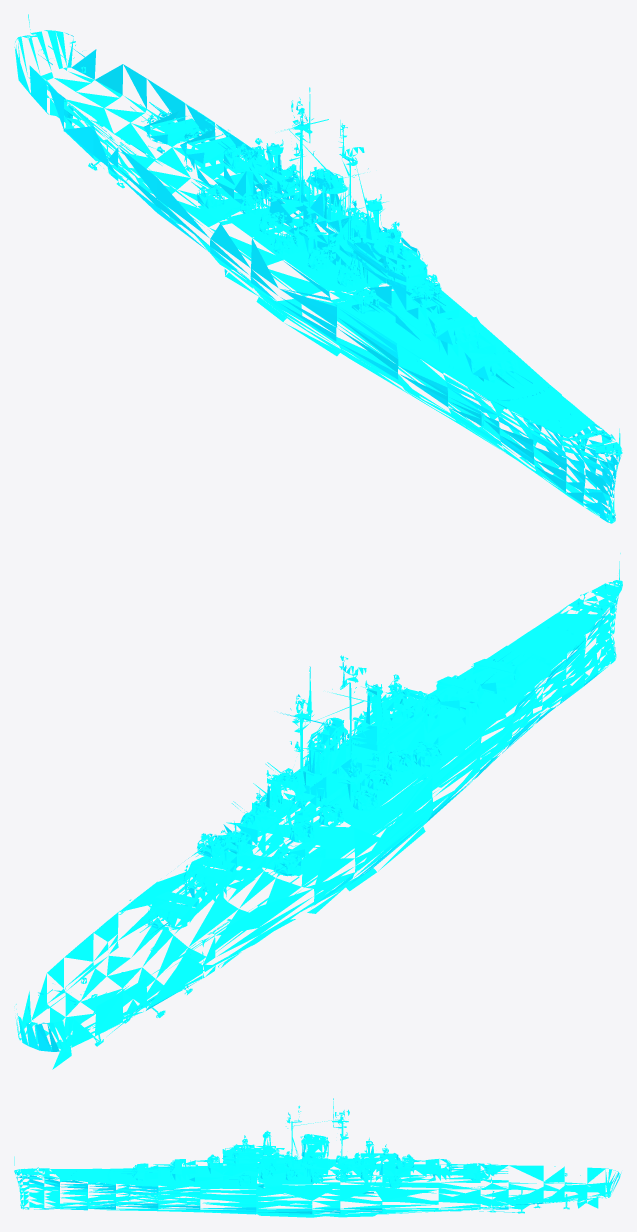
The model's file is Annapolis.glb.
The picture shows the model from 3 angles, top to bottom: view 1: azimuth 30°, elevation 25°; view 2: azimuth 150°, elevation 25°; view 3: azimuth 270°, elevation 25°; orthographic projection. The views are drawn at different scales.
Bounding box in the file's own units: 1.85 × 3.18 × 15.83.
